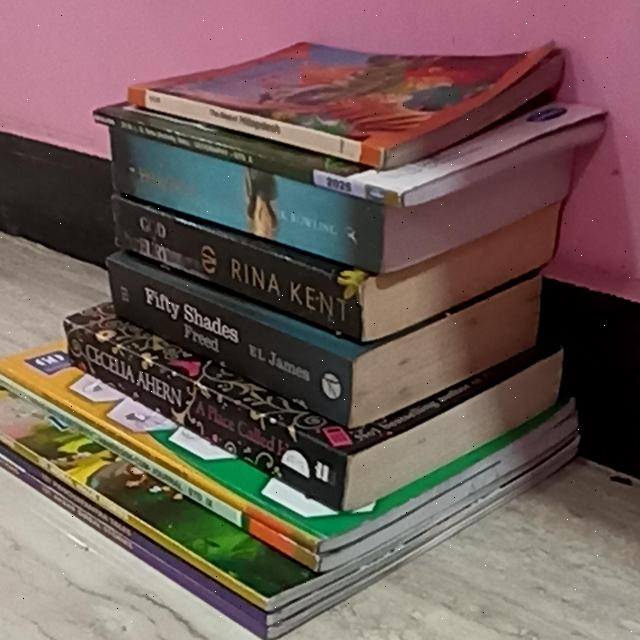book: (1, 364, 316, 550), (65, 321, 355, 510), (112, 259, 354, 425), (115, 132, 386, 275), (113, 200, 365, 336), (94, 111, 403, 205), (130, 86, 386, 171)
